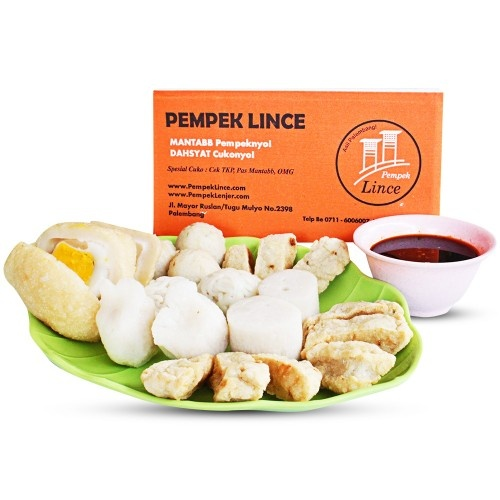pempek: (3, 221, 412, 401)
